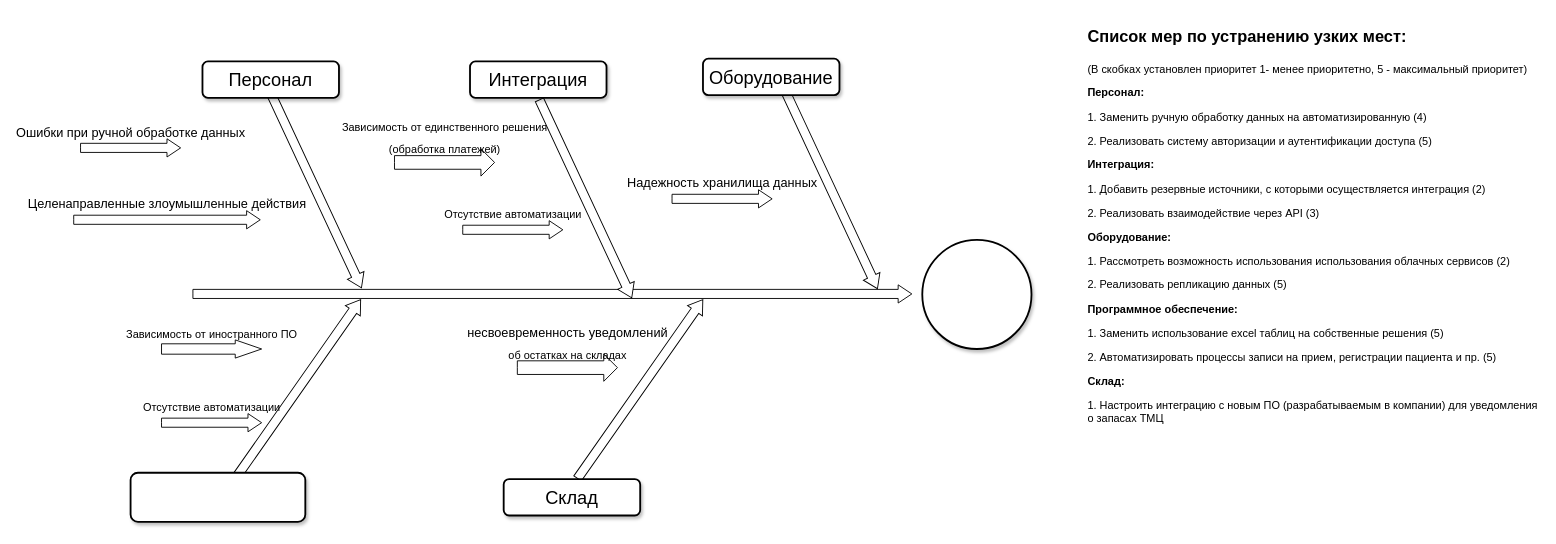
The diagram is 1556 pixels wide and 544 high, and some of its shapes have lost their labels. The centre of each missing label's shape, as x and y in pixels:
проблемы: (x=977, y=295)
Программное обеспечение: (x=218, y=498)
